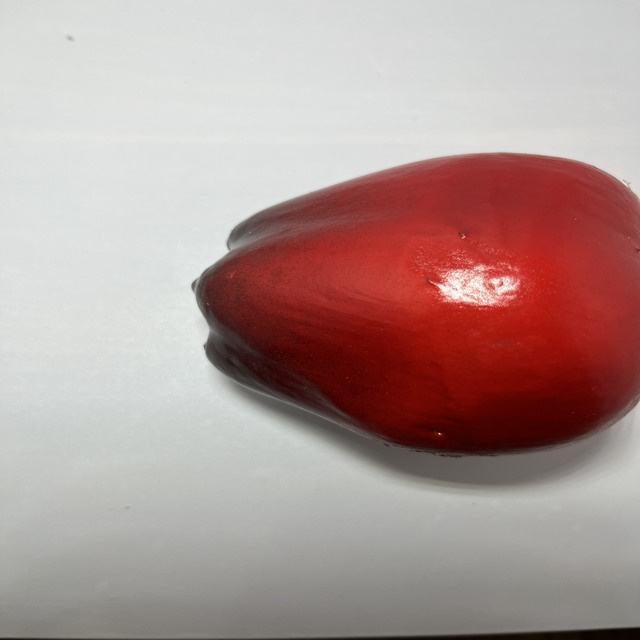Tao: (182, 145, 640, 463)
